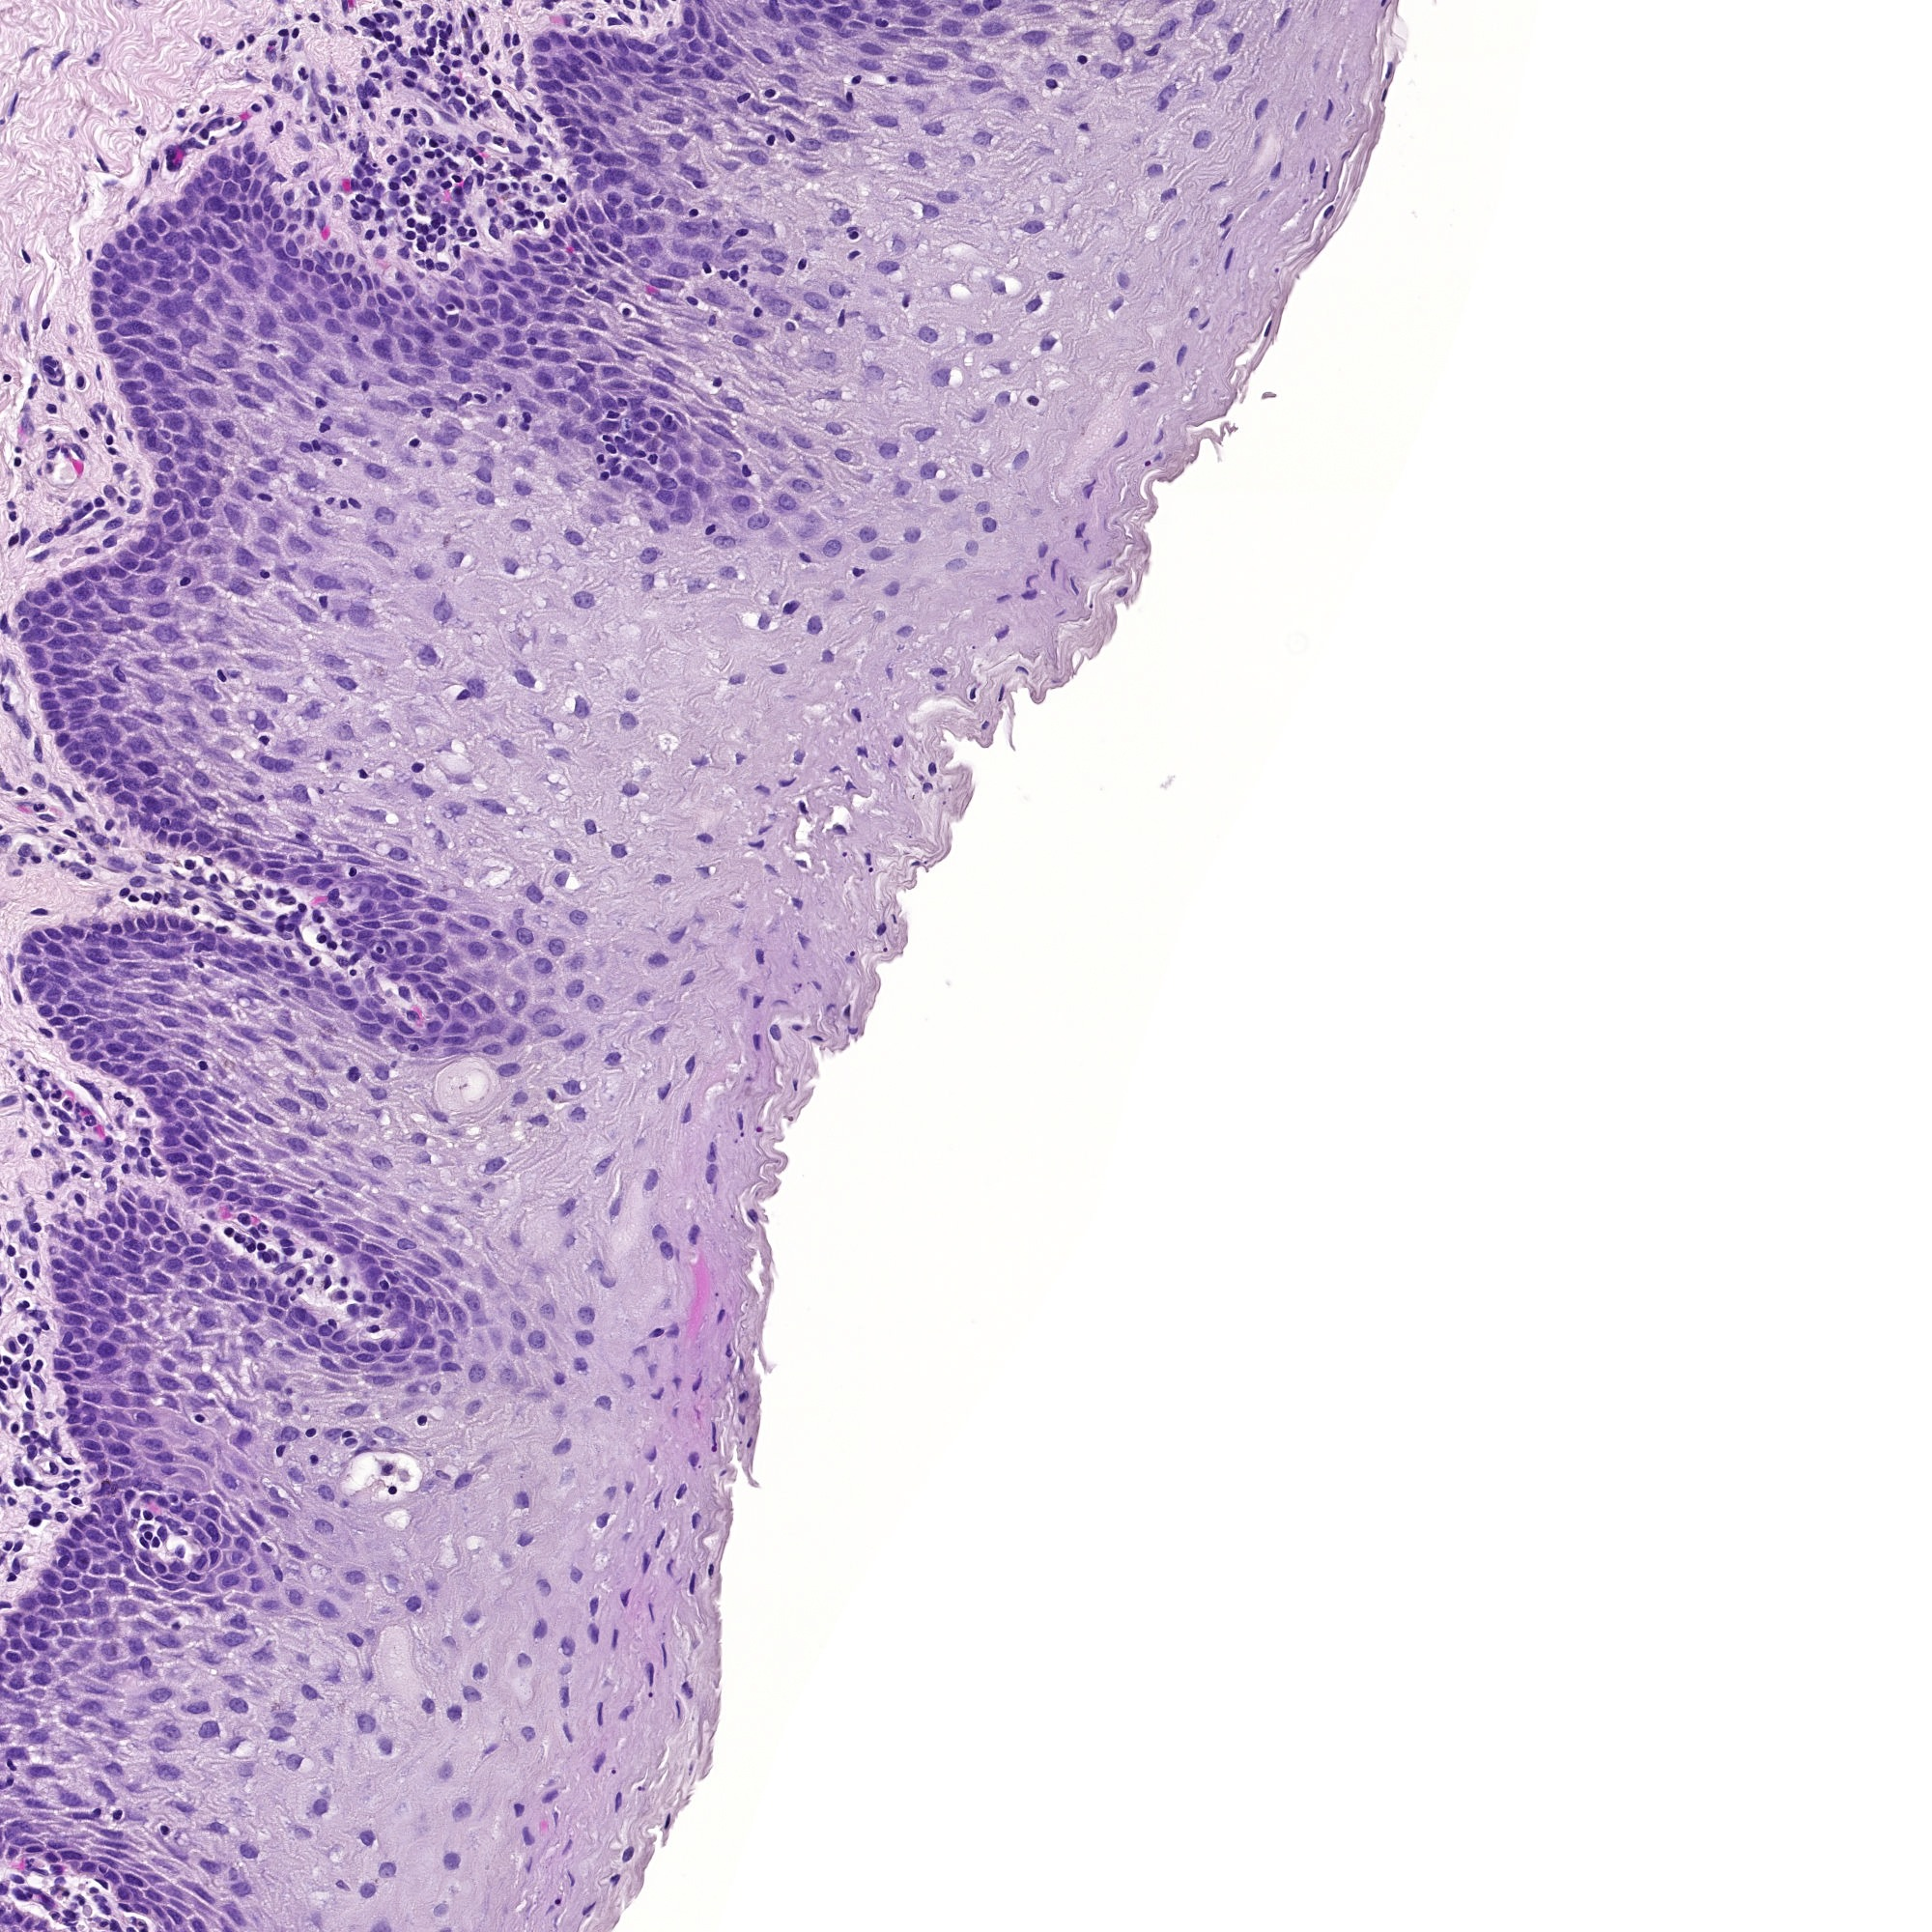epithelial: (676, 515, 686, 522), (584, 1309, 591, 1318), (617, 849, 623, 855), (1028, 593, 1031, 600), (540, 1626, 543, 1633), (591, 55, 596, 58), (235, 1621, 241, 1624), (453, 1711, 456, 1716), (387, 1867, 391, 1872), (340, 1178, 349, 1180), (913, 78, 916, 81), (982, 336, 985, 340), (104, 334, 108, 338), (134, 398, 138, 402), (172, 423, 175, 426), (113, 570, 117, 573), (51, 589, 55, 593), (78, 593, 85, 594), (954, 564, 957, 568), (281, 764, 285, 768), (377, 1093, 380, 1097), (156, 1276, 159, 1279), (85, 1419, 88, 1422), (327, 1608, 331, 1612), (205, 1729, 209, 1732), (237, 1702, 241, 1706), (587, 90, 593, 92), (669, 117, 674, 119), (614, 196, 616, 202), (203, 460, 205, 465), (248, 964, 249, 970), (218, 203, 219, 207), (133, 232, 134, 235), (541, 42, 543, 46), (916, 159, 918, 163), (1261, 106, 1263, 110), (1031, 398, 1033, 402), (842, 456, 844, 460), (453, 341, 455, 345), (188, 336, 189, 340), (198, 395, 200, 398), (62, 626, 65, 628), (582, 598, 584, 602), (814, 625, 816, 628), (786, 782, 787, 786), (301, 982, 304, 984), (524, 936, 527, 938), (759, 954, 761, 957), (149, 1079, 150, 1083), (76, 1044, 80, 1046), (214, 1192, 218, 1194), (127, 1207, 129, 1210), (58, 1263, 60, 1267), (117, 1297, 120, 1299), (198, 1237, 200, 1240), (196, 1258, 198, 1261), (299, 1313, 301, 1316), (341, 1224, 343, 1228), (138, 1378, 140, 1382), (65, 1585, 69, 1587), (88, 1706, 92, 1707), (276, 212, 278, 214), (729, 165, 731, 166), (1154, 166, 1155, 168), (1031, 225, 1033, 226), (950, 28, 952, 30), (559, 398, 561, 400), (200, 593, 202, 594), (159, 610, 161, 612), (865, 533, 867, 534), (255, 869, 257, 870), (186, 925, 188, 927), (479, 920, 481, 922), (577, 918, 579, 920), (775, 1031, 777, 1033), (172, 1224, 173, 1226), (248, 1313, 249, 1315), (106, 1350, 108, 1352), (517, 1320, 518, 1322), (563, 1445, 564, 1447), (119, 1449, 120, 1451), (159, 1568, 161, 1569), (593, 1603, 594, 1605), (37, 1769, 39, 1771), (133, 1879, 134, 1881), (202, 1893, 203, 1895), (453, 1859, 455, 1861), (628, 1854, 630, 1856), (34, 1849, 35, 1851), (110, 1833, 111, 1835)
fibroblast and endothelial: (462, 21, 465, 25), (57, 382, 62, 384), (55, 1435, 57, 1440), (149, 177, 150, 180), (106, 490, 108, 494), (110, 540, 113, 541), (25, 727, 28, 729), (99, 1325, 101, 1329), (53, 1467, 55, 1470), (425, 117, 426, 119), (80, 448, 81, 449), (78, 794, 80, 796), (246, 904, 248, 906), (32, 1890, 34, 1891)
inflammatory: (92, 57, 96, 62), (87, 550, 96, 552), (12, 1345, 14, 1352), (515, 39, 517, 44), (706, 267, 708, 271), (11, 540, 14, 541), (21, 791, 23, 794), (55, 847, 57, 851), (124, 892, 127, 893), (80, 1898, 81, 1902), (69, 832, 71, 835), (205, 41, 207, 42), (255, 108, 257, 110), (561, 196, 563, 198), (478, 159, 479, 161), (800, 265, 801, 267), (757, 310, 759, 311), (318, 402, 320, 403), (322, 938, 324, 939), (87, 856, 88, 858), (87, 1120, 88, 1122), (145, 1150, 147, 1152), (421, 1419, 423, 1421)
lymphocyte: (145, 768, 152, 771), (331, 943, 334, 948), (124, 800, 133, 801), (280, 30, 283, 34), (393, 111, 396, 115), (545, 177, 548, 180), (472, 232, 476, 235), (11, 1576, 14, 1580), (386, 35, 389, 37), (428, 41, 432, 42), (481, 71, 485, 73), (768, 94, 771, 96), (855, 78, 858, 80), (1051, 81, 1053, 85), (602, 456, 603, 460), (264, 573, 267, 575), (195, 908, 196, 911), (202, 1063, 203, 1067), (198, 1417, 200, 1421), (34, 1522, 35, 1525), (117, 1815, 119, 1819), (368, 180, 370, 182), (446, 69, 448, 71), (474, 58, 476, 60), (495, 80, 497, 81), (432, 143, 433, 145), (393, 186, 395, 188), (428, 154, 430, 156), (745, 96, 747, 97), (789, 136, 791, 138), (449, 306, 451, 308), (315, 444, 317, 446), (83, 433, 85, 435), (16, 460, 18, 462), (184, 582, 186, 584), (416, 766, 418, 768), (264, 740, 265, 741), (219, 674, 221, 676), (184, 814, 186, 816), (301, 906, 303, 908), (327, 1258, 329, 1260), (267, 1256, 269, 1258), (80, 1200, 81, 1201), (343, 1281, 345, 1283), (345, 1433, 347, 1435), (163, 1829, 165, 1831)
